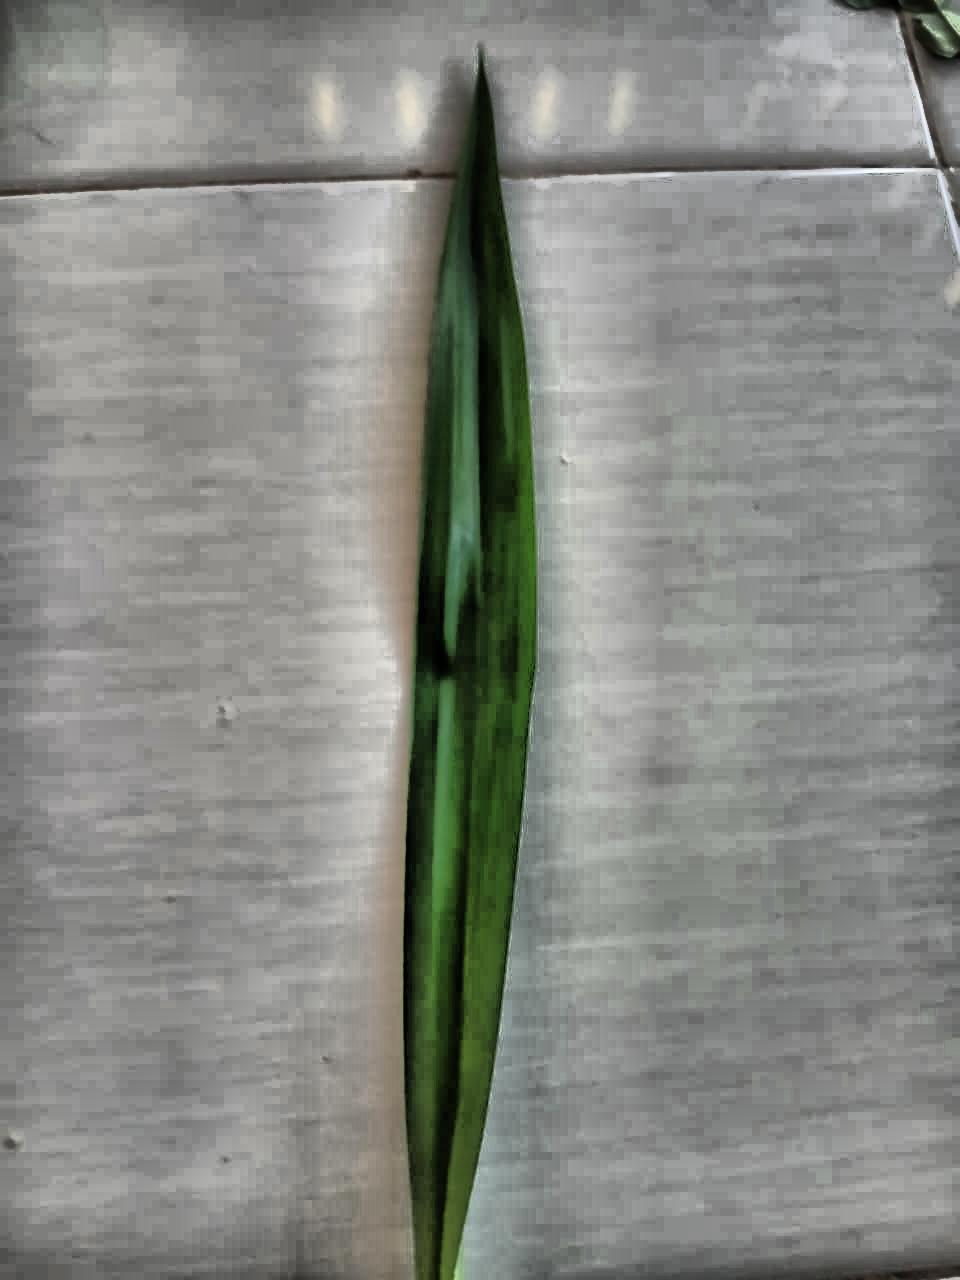daun pandan: (403, 57, 536, 1279)
